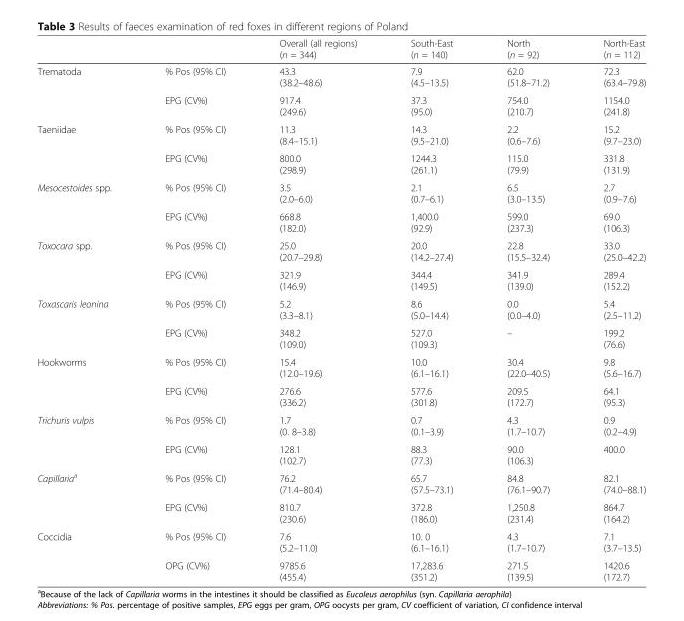table: (36, 37, 645, 582)
table column: (251, 37, 383, 582), (137, 37, 251, 582), (36, 37, 137, 582), (383, 37, 479, 582), (479, 37, 575, 582), (575, 37, 645, 582)
table column header: (36, 37, 645, 62)
table row: (36, 468, 645, 498), (36, 62, 645, 91), (36, 91, 645, 120), (36, 120, 645, 149), (36, 149, 645, 178), (36, 178, 645, 207), (36, 207, 645, 236), (36, 236, 645, 265), (36, 265, 645, 294), (36, 294, 645, 323), (36, 323, 645, 352), (36, 352, 645, 381), (36, 381, 645, 410), (36, 410, 645, 439), (36, 439, 645, 468), (36, 498, 645, 527), (36, 527, 645, 556), (36, 556, 645, 582), (36, 37, 645, 62)
table spanning cell: (36, 468, 137, 527), (36, 62, 137, 120), (36, 120, 137, 178), (36, 178, 137, 236), (36, 236, 137, 294), (36, 294, 137, 352), (36, 352, 137, 410), (36, 410, 137, 468), (36, 527, 137, 582)
